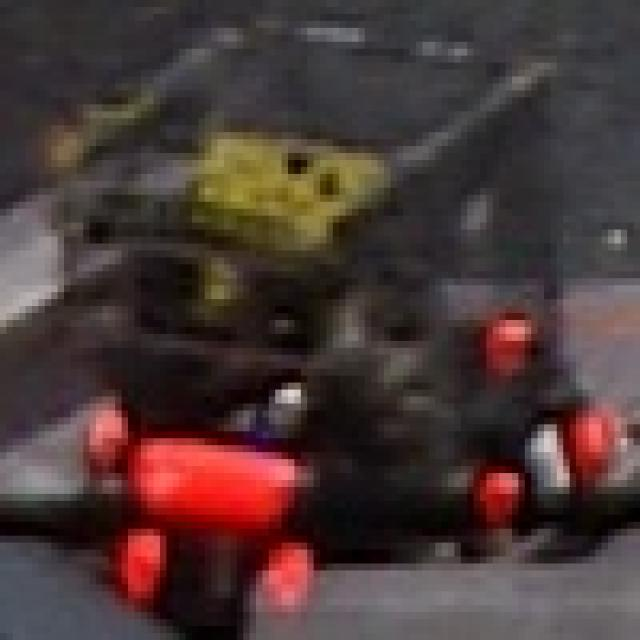R1: (474, 396, 620, 515)
